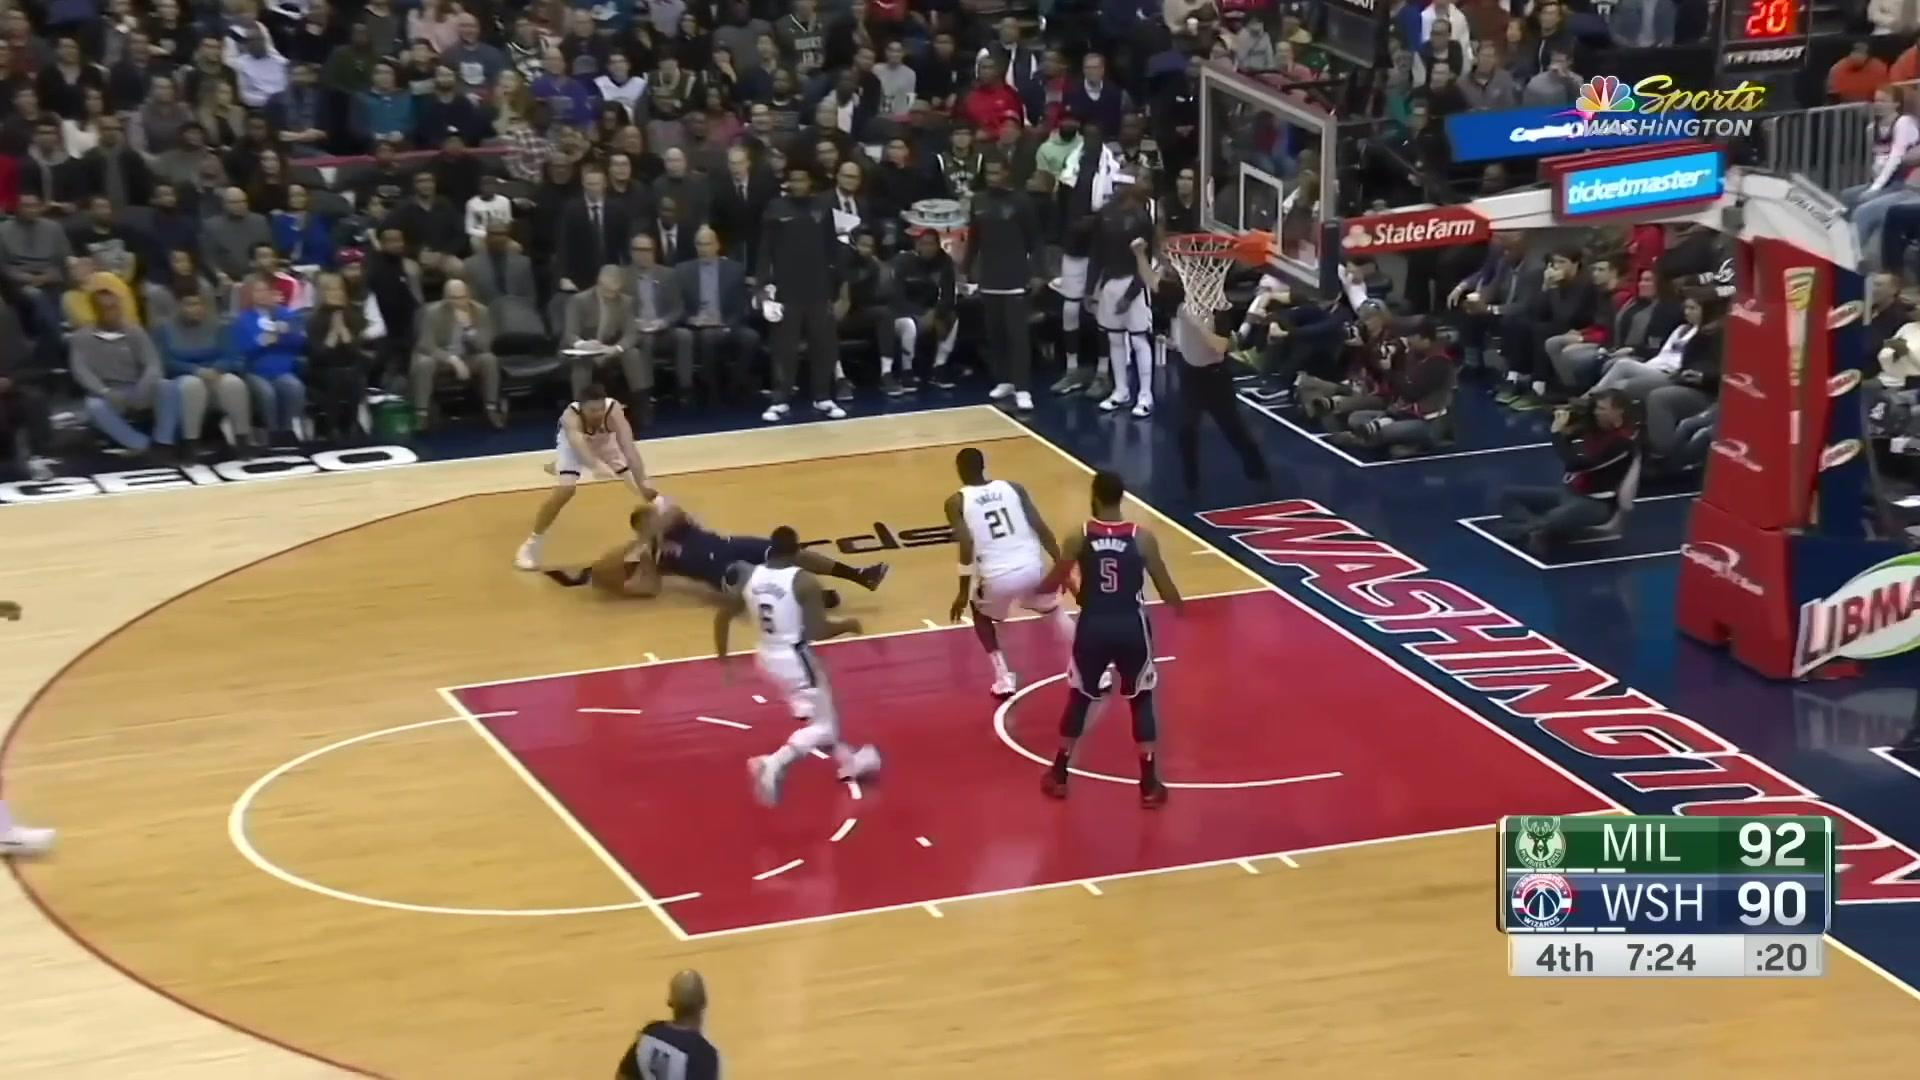foul: (512, 368, 865, 630)
